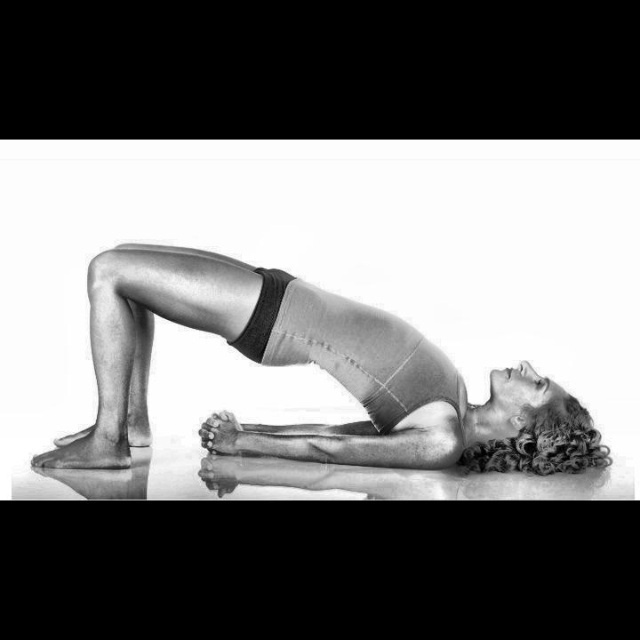Bridge_Pose: (29, 235, 613, 481)
